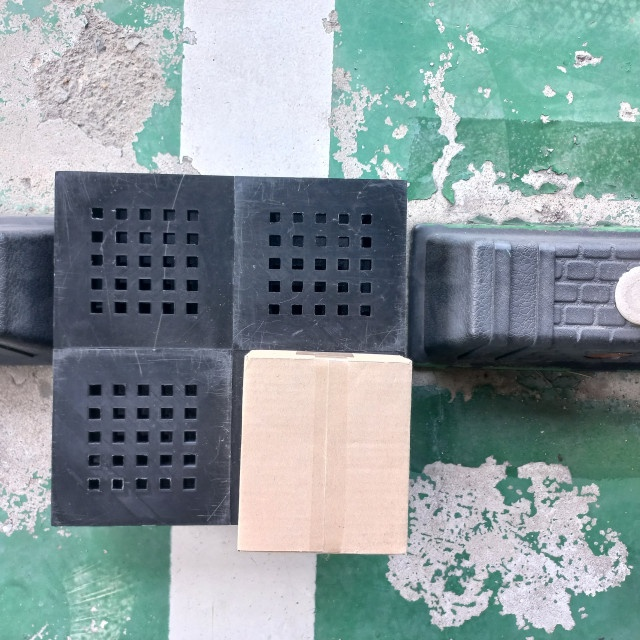box: (234, 346, 414, 558)
pallet: (48, 170, 419, 533)
